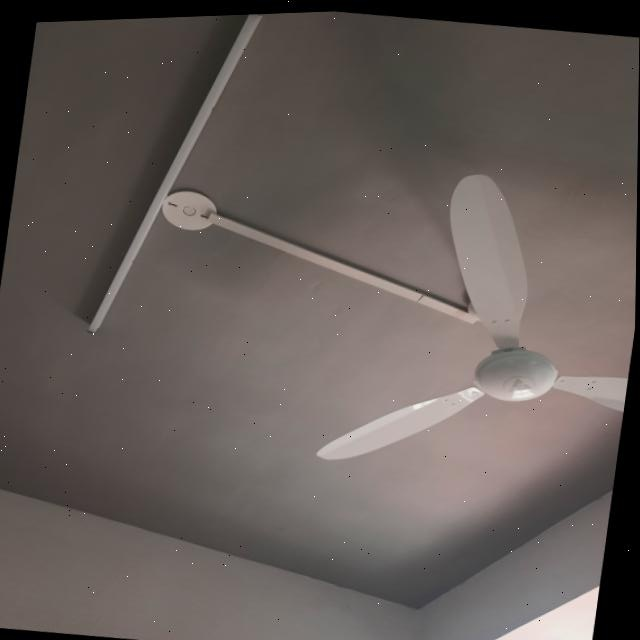fluorescent tube: (81, 11, 271, 354)
